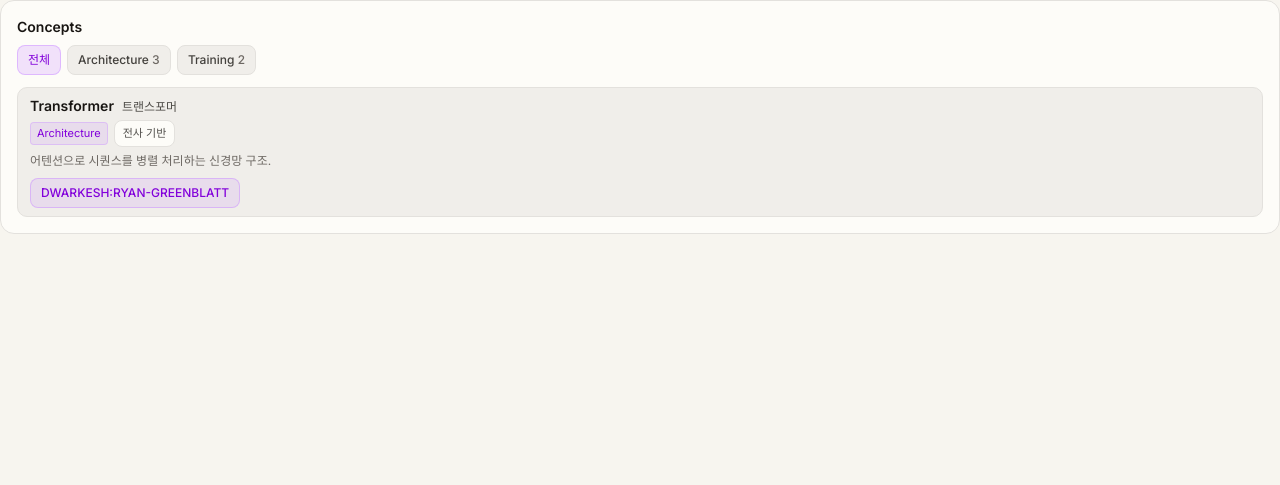
Test case: ConceptsPane 관련 영상 라벨 › 번호 없는 Dwarkesh 영상은 맨 EP 대신 저장된 출처 이름을 단다
Click the button "Transformer" at (72, 106), box [18, 88, 1262, 178]
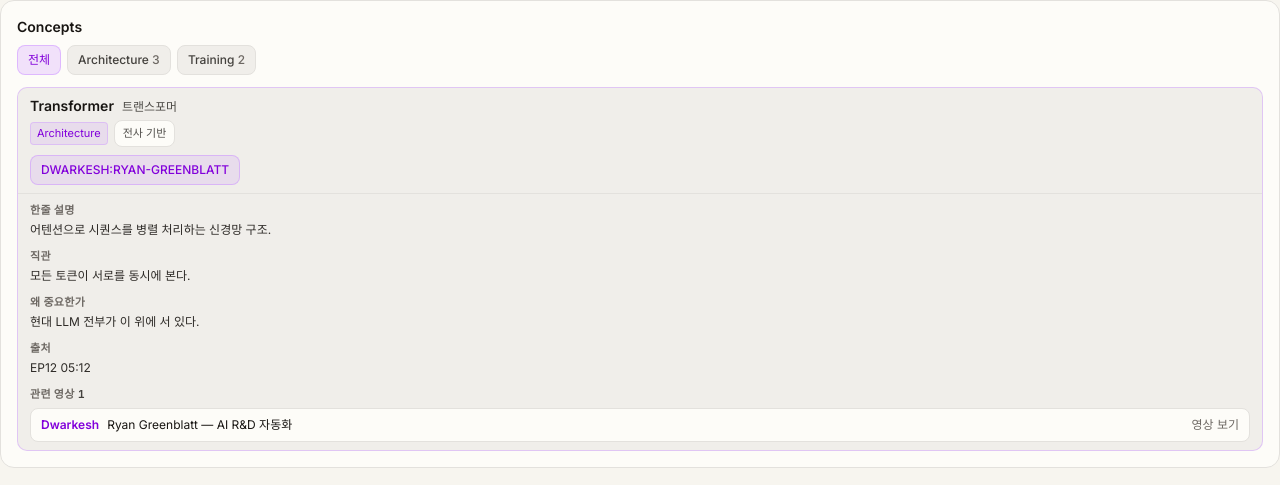
Check: the text "Dwarkesh" is shown, box [41, 417, 99, 433]
